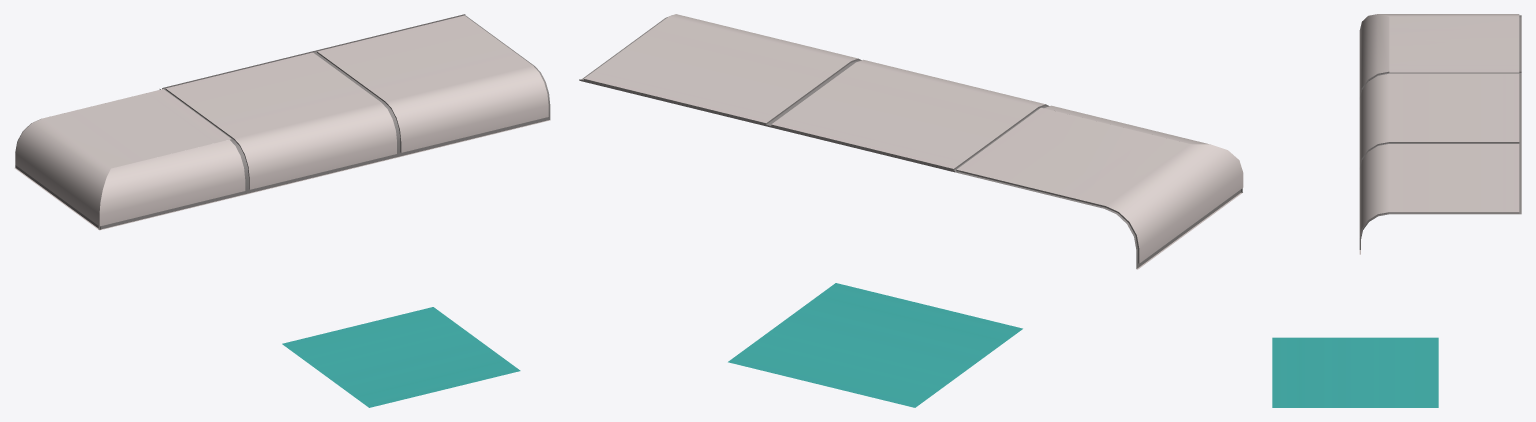
Rendered from Ceiling.fbx.
3 views of the same model, side by side, from view 1: azimuth 30°, elevation 25°; view 2: azimuth 150°, elevation 25°; view 3: azimuth 270°, elevation 25° (orthographic). The views are drawn at different scales.
Visible parts, largest first — view 1: Ceiling_4m, Ceiling_Corner, Ceiling_Blue2x2; view 2: Ceiling_4m, Ceiling_Corner, Ceiling_Blue2x2; view 3: Ceiling_4m, Ceiling_Blue2x2, Ceiling_Corner.
Boxes of the visible parts, bbox=[...] form: Ceiling_4m: bbox=[162, 14, 550, 194]; Ceiling_Corner: bbox=[14, 89, 246, 230]; Ceiling_Blue2x2: bbox=[282, 307, 520, 407]; Ceiling_4m: bbox=[579, 14, 1049, 172]; Ceiling_Corner: bbox=[955, 105, 1243, 269]; Ceiling_Blue2x2: bbox=[728, 283, 1022, 407]; Ceiling_4m: bbox=[1359, 73, 1521, 254]; Ceiling_Blue2x2: bbox=[1272, 337, 1438, 407]; Ceiling_Corner: bbox=[1359, 14, 1521, 99].
Bounding box in the file's own units: 5.95 × 3.05 × 3.
